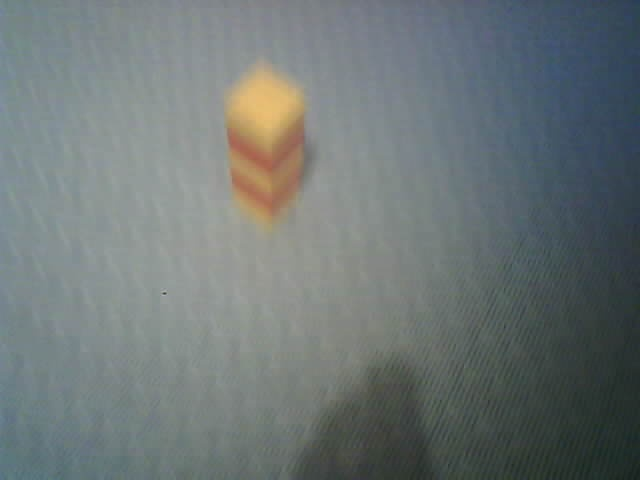lego: (222, 59, 309, 232)
